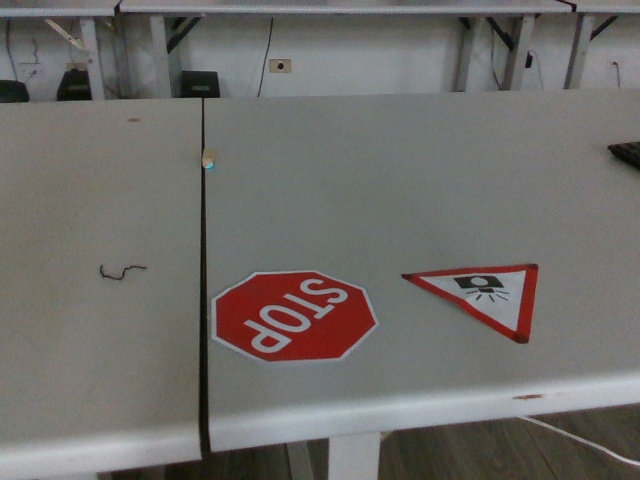camera: (400, 263, 544, 345)
stop: (202, 265, 381, 365)
